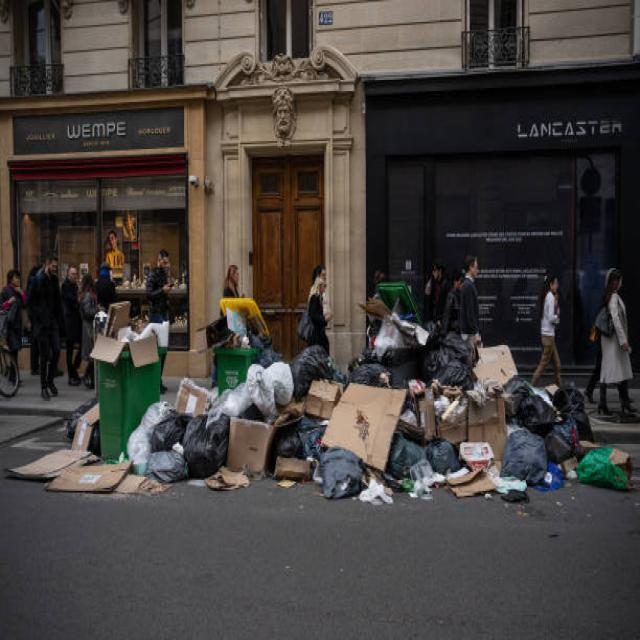cardboard: (428, 362, 520, 477), (323, 388, 405, 470), (92, 296, 163, 372), (22, 435, 107, 497)
trash: (146, 364, 324, 481), (520, 396, 584, 498)
